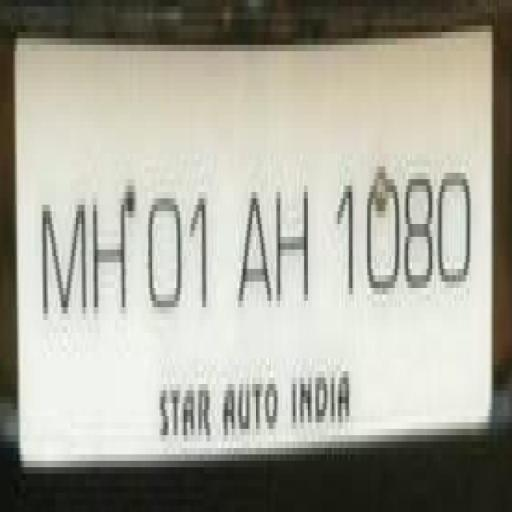number plate: (2, 26, 488, 467)
